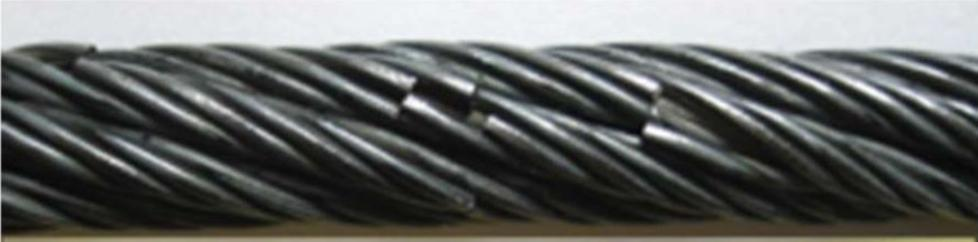break: (619, 70, 675, 160), (447, 77, 524, 134), (364, 60, 425, 125), (56, 32, 108, 79)
